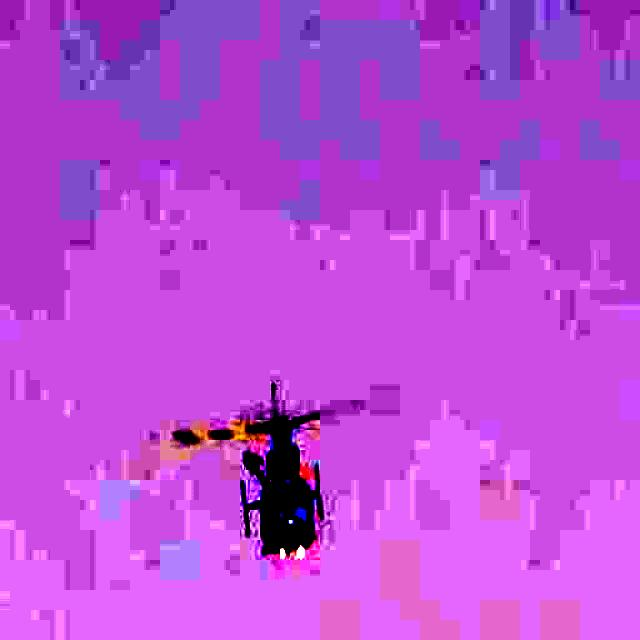drone: (129, 308, 405, 616)
